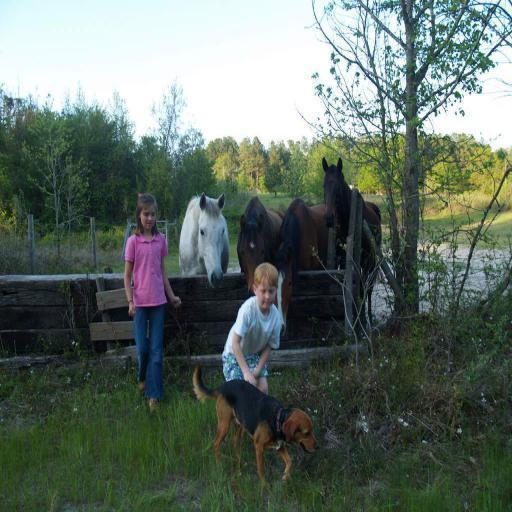horse: (320, 156, 382, 328), (268, 198, 330, 336), (178, 189, 234, 293), (236, 194, 286, 292)
